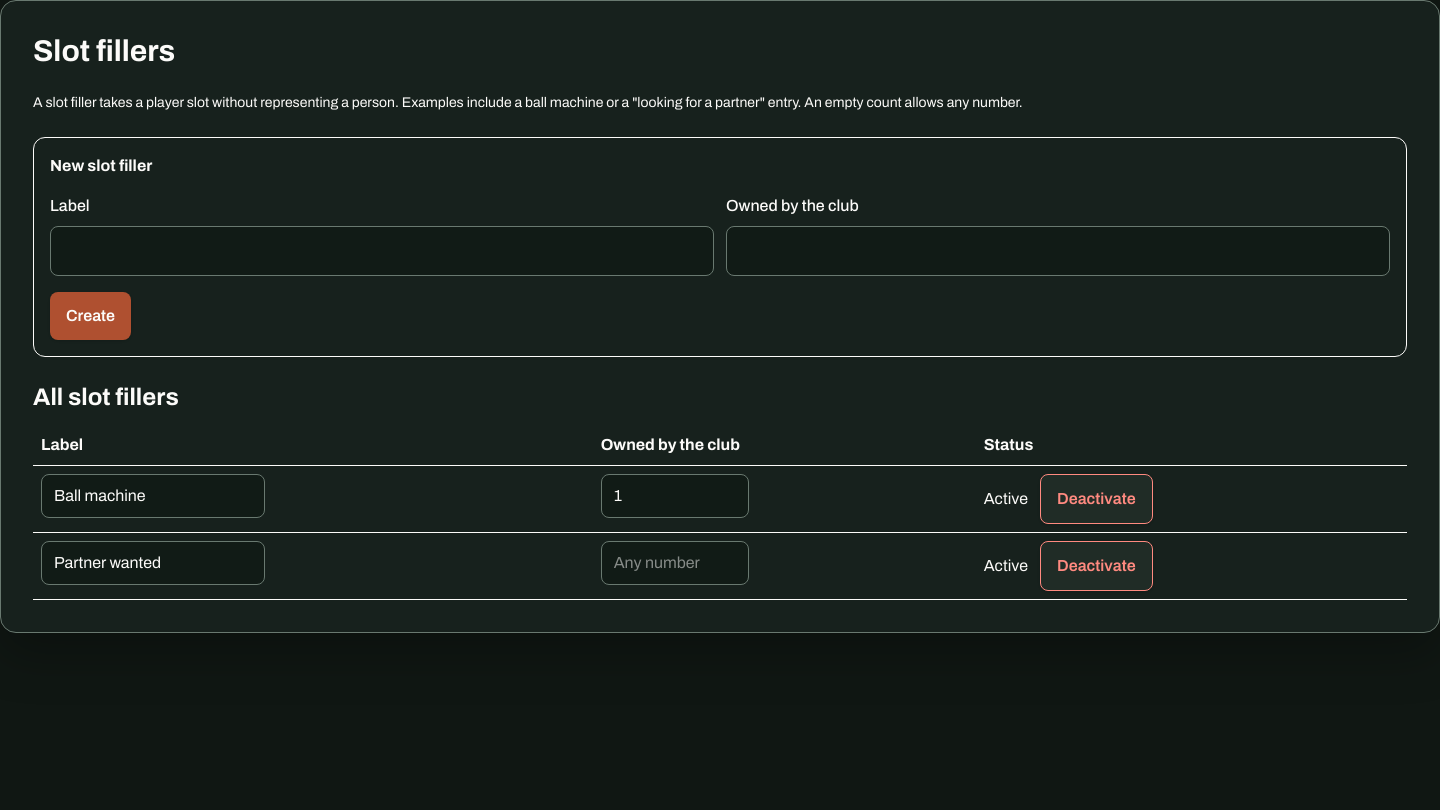
Scenario: AdminSlotFillersView › given a first filler the instance refuses, when the page is saved, then the fillers after it are not sent and it is named
Type "!" into the field with test id "edit-participant-card-label-filler-1" at coordinates (153, 496), box [41,474,265,518]
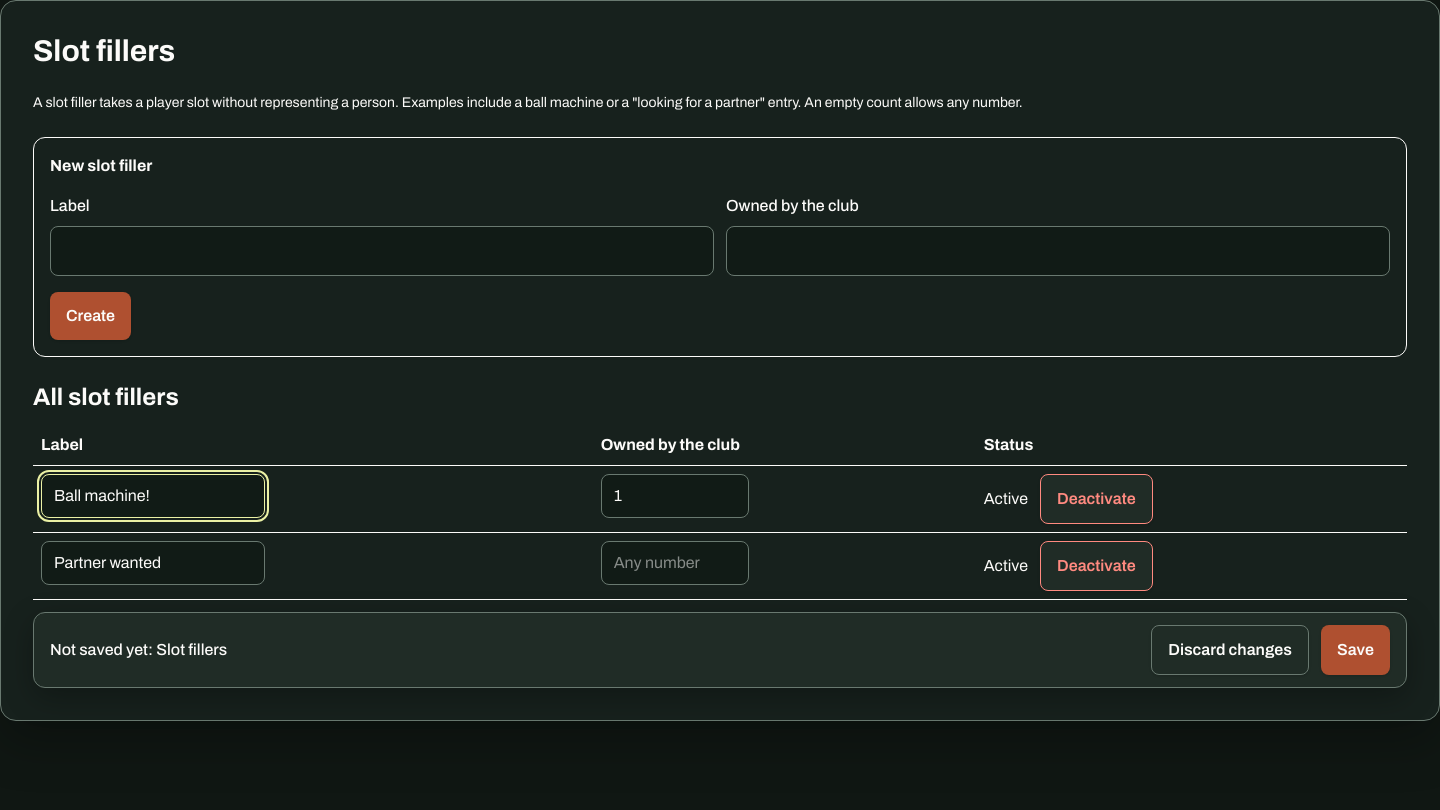
Type "?" into the field with test id "edit-participant-card-label-filler-2" at coordinates (153, 563), box [41,541,265,585]
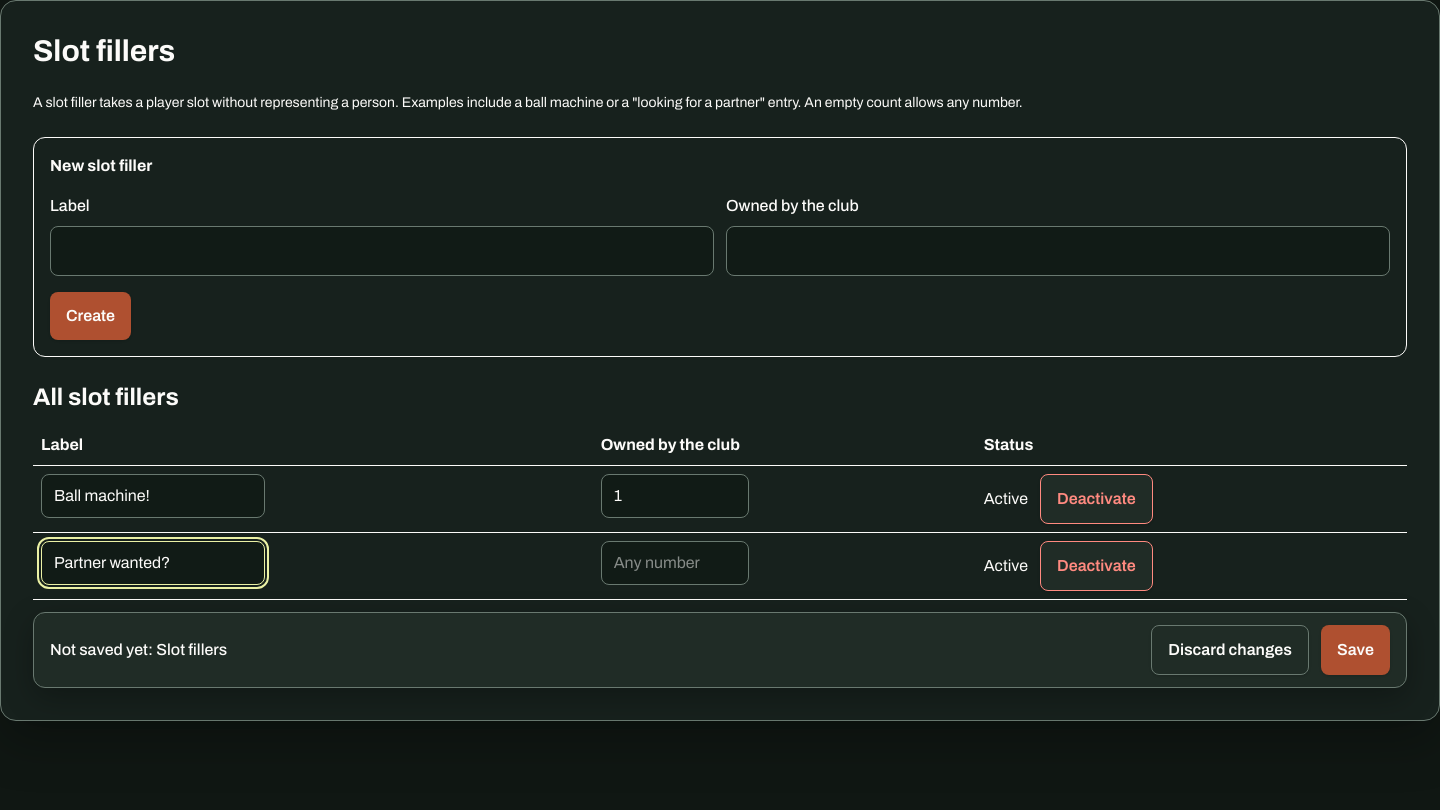
Click the button with test id "save-slot-fillers" at coordinates (1356, 650), box [1321,625,1390,675]
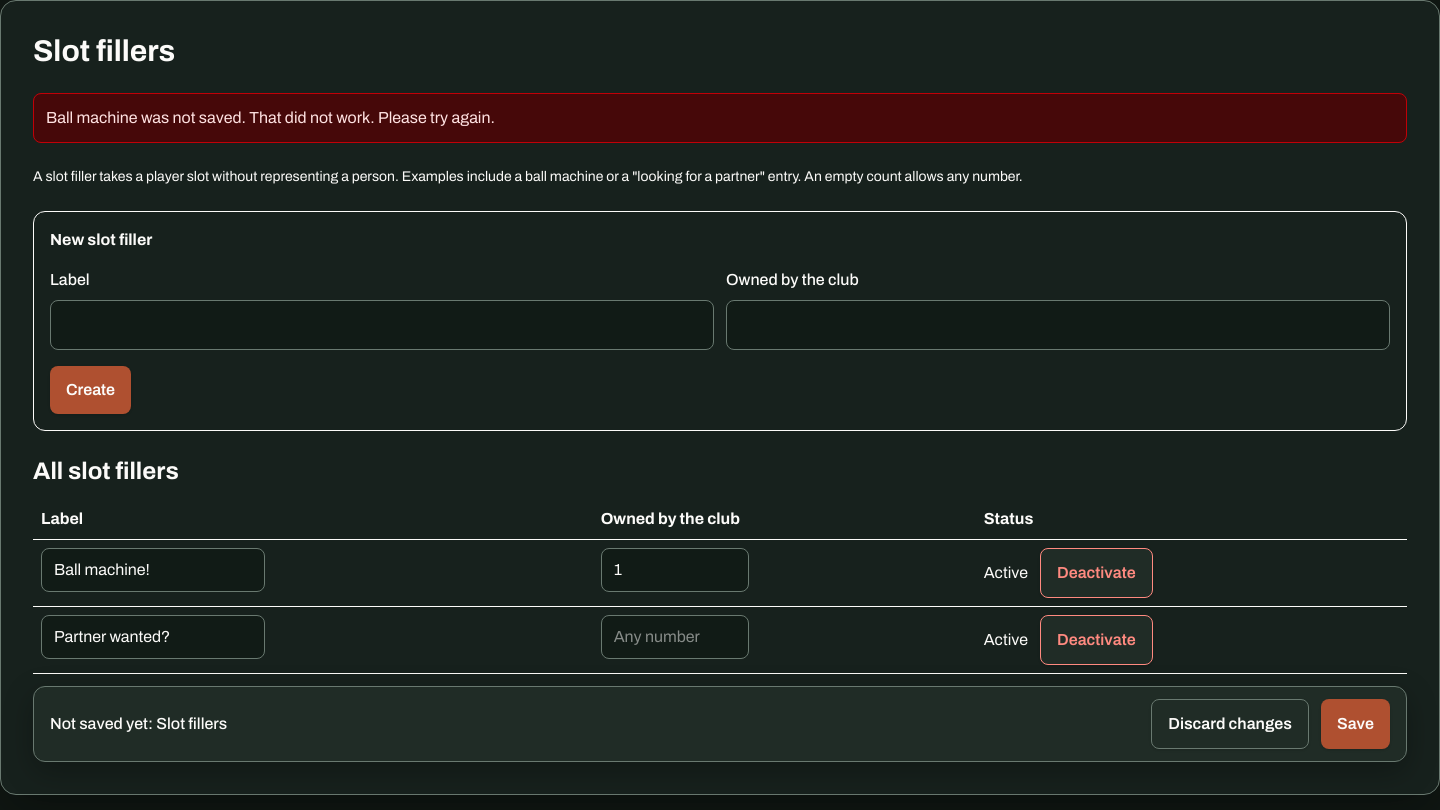
Now the field with test id "edit-participant-card-label-filler-2" holds "Partner wanted?", box [41,615,265,659]
Now the message shows "Ball machine was not saved.", box [46,109,495,126]
